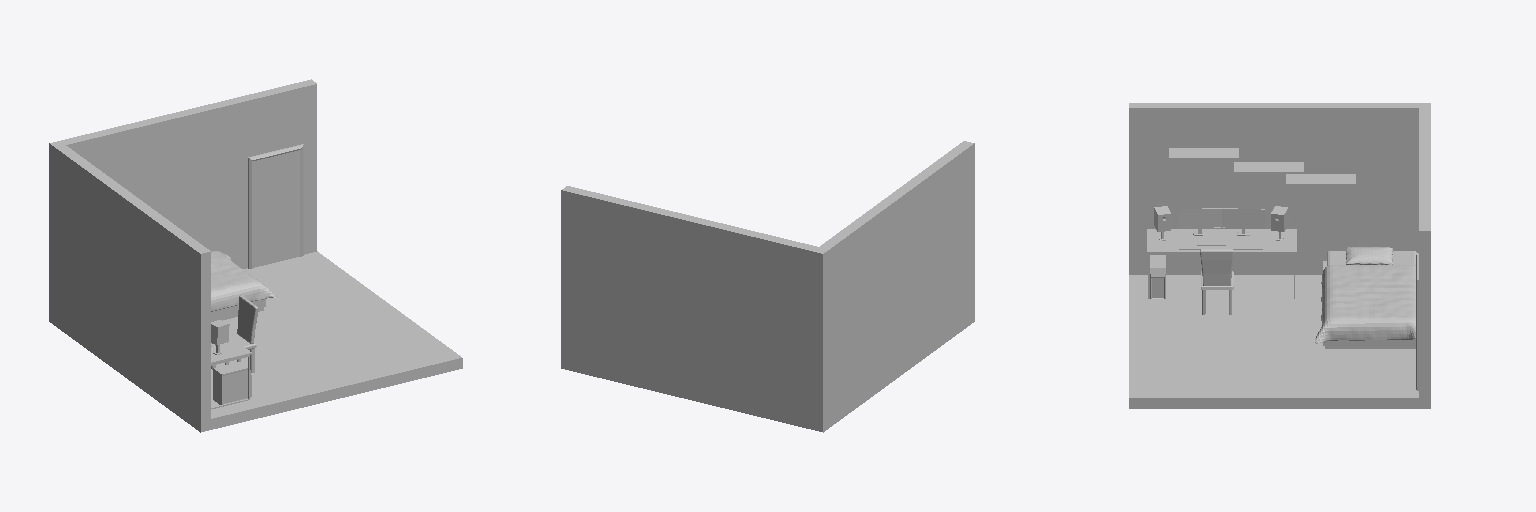
File: isometric room.obj
The picture shows the model from 3 angles: view 1: azimuth 30°, elevation 25°; view 2: azimuth 150°, elevation 25°; view 3: azimuth 270°, elevation 25°; orthographic projection.
Parts seen in each view (by area): view 1: Cube, Cube.005, Plane.001, Cube.006, Plane, Cube.004; view 2: Cube; view 3: Cube, Plane.001, Cube.004, Plane, Cube.007, Cube.009, Cube.014, Cube.003, Cube.001, Cube.008, Cube.015, Cube.013 (+2 smaller).
Part boxes in pixels (x1,y1,x2,y2): Cube: (49,79,462,432); Cube.005: (248,144,303,268); Plane.001: (211,251,278,311); Cube.006: (213,362,251,404); Plane: (211,295,258,372); Cube.004: (211,336,251,408); Cube: (561,141,974,432); Cube: (1129,103,1430,408); Plane.001: (1315,265,1415,343); Cube.004: (1147,229,1296,298); Plane: (1200,249,1233,314); Cube.007: (1222,208,1264,235); Cube.009: (1179,208,1221,235); Cube.014: (1286,174,1355,185); Cube.003: (1346,247,1392,264); Cube.001: (1323,261,1415,348); Cube.008: (1179,238,1262,249); Cube.015: (1169,148,1238,158); Cube.013: (1234,162,1303,172).
Bounding box in the file's own units: 8.66 × 5.64 × 8.66.